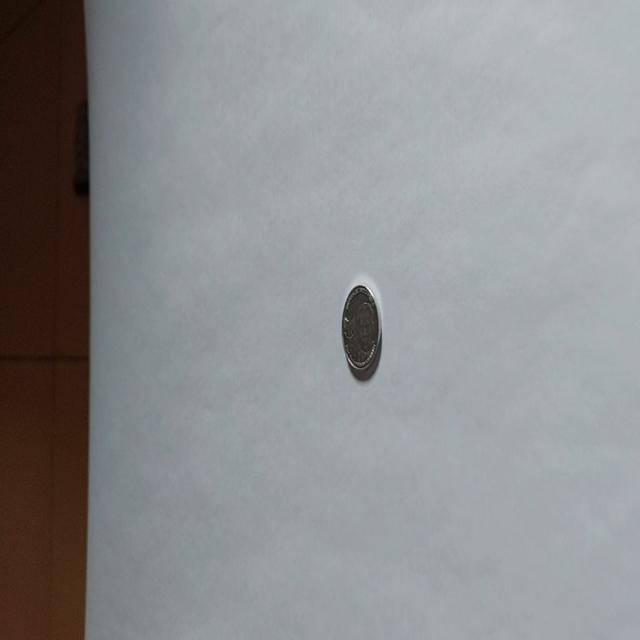seratus rupiah: (341, 282, 382, 378)
